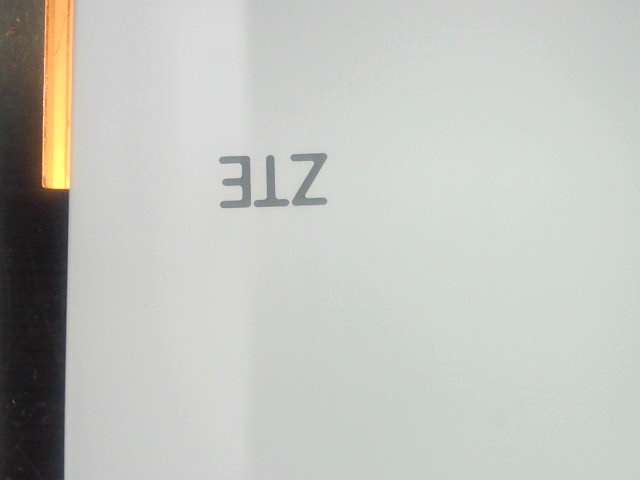AO_ZTESmall: (199, 141, 354, 215)
